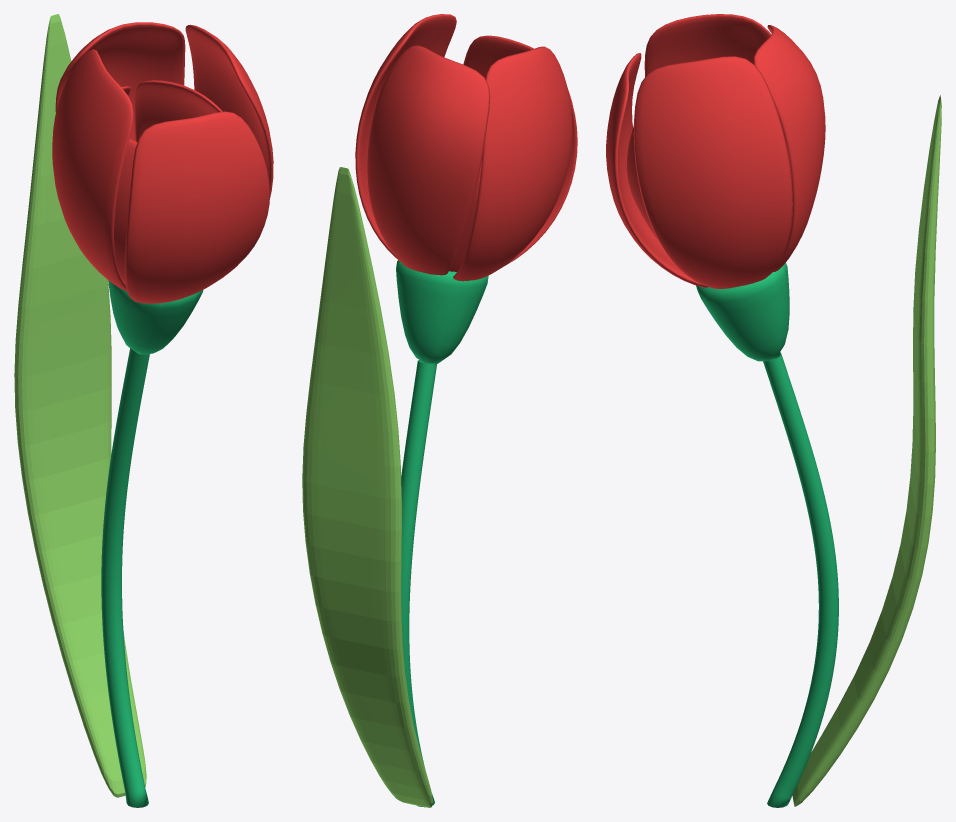
The model's file is Tulip_Harvested.fbx.
3 renders of one model, left to right at view 1: azimuth 30°, elevation 25°; view 2: azimuth 150°, elevation 25°; view 3: azimuth 270°, elevation 25°, orthographic. The views are drawn at different scales.
Visible parts, largest first — view 1: Tulps_United.001; view 2: Tulps_United.001; view 3: Tulps_United.001.
Part boxes in pixels (x1,y1,x2,y2): Tulps_United.001: (14,14,273,807); Tulps_United.001: (302,14,577,807); Tulps_United.001: (606,14,941,807).
Size of the model in its own units: 14.02 by 57.03 by 22.71.
